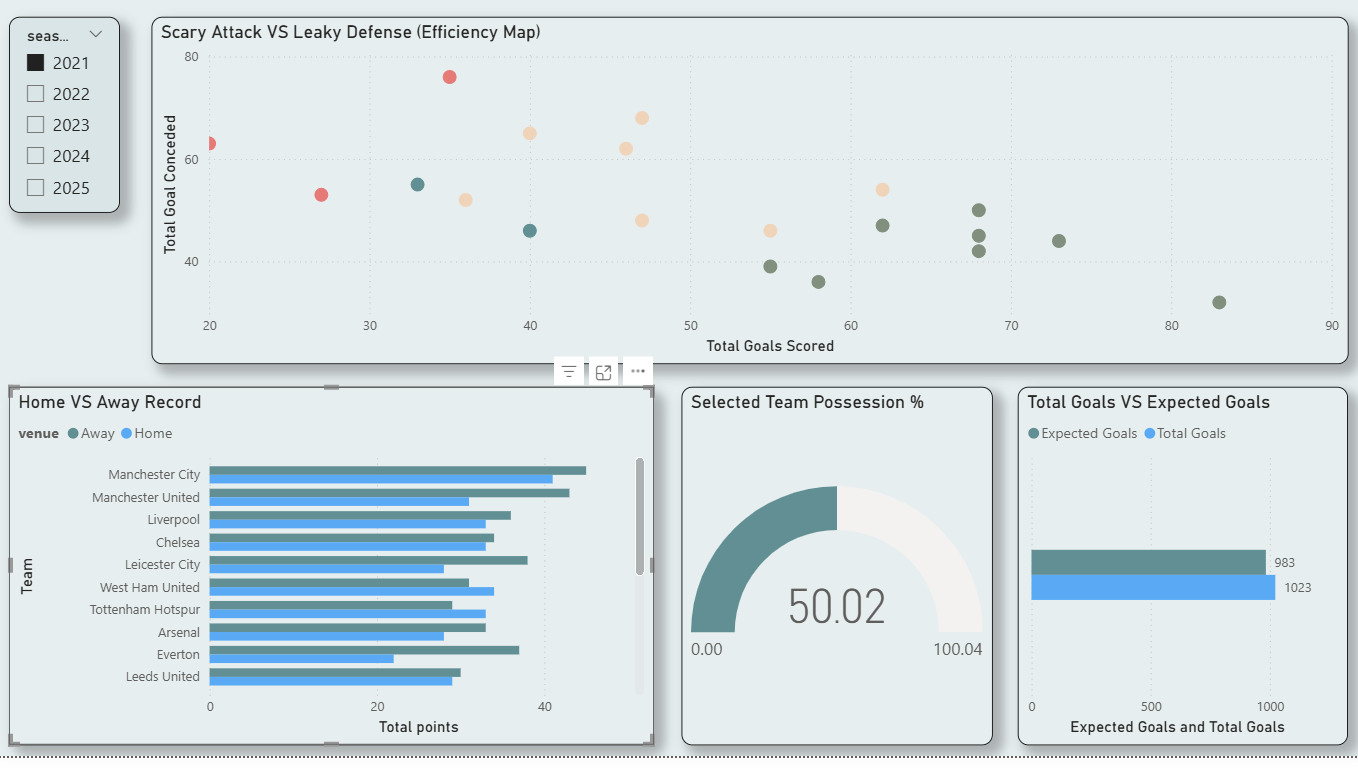

The dashboard page shown, as its layout file describes it:
{"tool":"powerbi","page":{"name":"Team Performance ","canvas":[1280,720],"ordinal":1},"visuals":[{"type":"scatterChart","title":"Scary Attack VS Leaky Defense (Efficiency Map)","fields":{"X":["Sum(pl_matches.goals_for)"],"Y":["Sum(pl_matches.goals_against)"],"Category":["pl_matches.team"]},"box":[146.5,31.4,1114,323.3],"z":0},{"type":"clusteredBarChart","title":"Home VS Away Record","fields":{"Category":["pl_matches.team"],"Y":["Sum(pl_matches.points)"],"Series":["pl_matches.venue"]},"box":[14,375.6,600,333.7],"z":1000},{"type":"gauge","title":"Selected Team Possession %","fields":{"Y":["Avg(pl_matches.possession_pct)"]},"box":[639.5,375.6,289.5,333.7],"z":2000},{"type":"clusteredBarChart","title":"Total Goals VS Expected Goals","fields":{"Y":["Sum(pl_matches.expected_goals)","Sum(pl_matches.goals_for)"]},"box":[952.3,375.6,307,333.7],"z":3000},{"type":"slicer","fields":{"Values":["pl_matches.season"]},"box":[14,31.4,103.5,182.6],"z":4000}]}

Visuals, with their boxes in screenshot pixels (x1, y1, x2, y2), scaled from the page's 1280x720 canvas onto the 1358x769 screenshot:
"Scary Attack VS Leaky Defense (Efficiency Map)" scatterChart: {"left": 155, "top": 34, "right": 1337, "bottom": 379}
"Home VS Away Record" clusteredBarChart: {"left": 15, "top": 401, "right": 651, "bottom": 758}
"Selected Team Possession %" gauge: {"left": 678, "top": 401, "right": 986, "bottom": 758}
"Total Goals VS Expected Goals" clusteredBarChart: {"left": 1010, "top": 401, "right": 1336, "bottom": 758}
slicer - pl_matches.season: {"left": 15, "top": 34, "right": 125, "bottom": 229}
